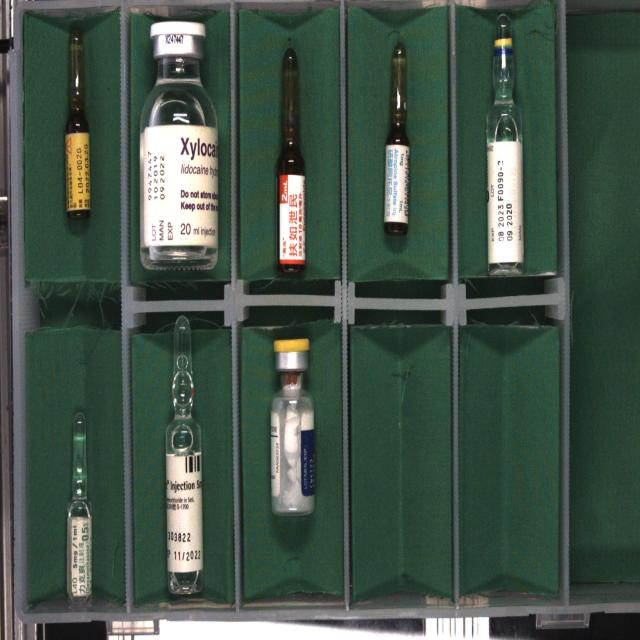Vials: (140, 21, 218, 269), (271, 338, 314, 514)
